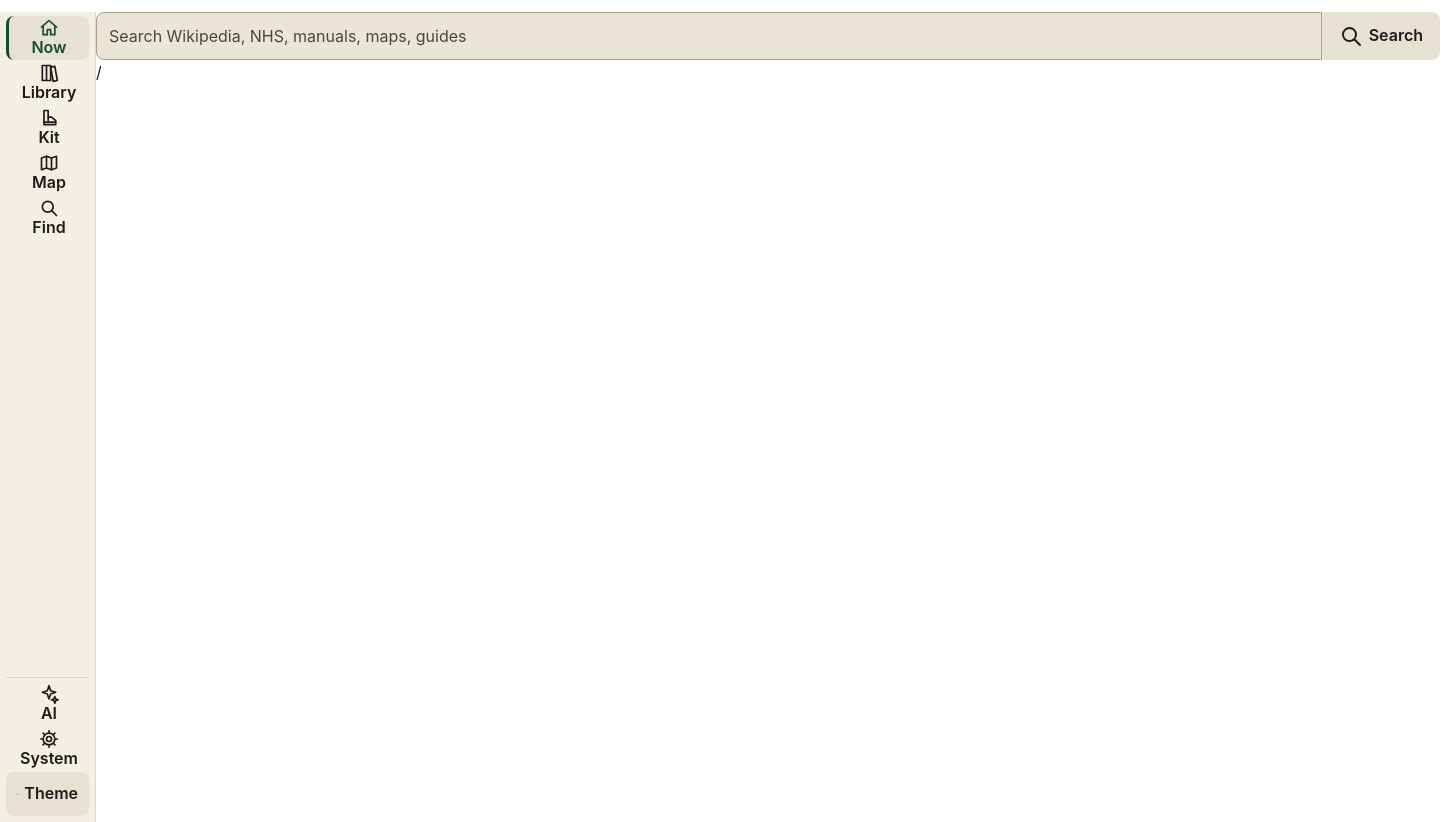
Test: SearchBar › debounces suggestions and lists them
This screenshot has width=1452, height=822.
Type "wat" into the dropdown labelled "Search" at (709, 36), box [96,12,1322,60]
Wait 250 ms
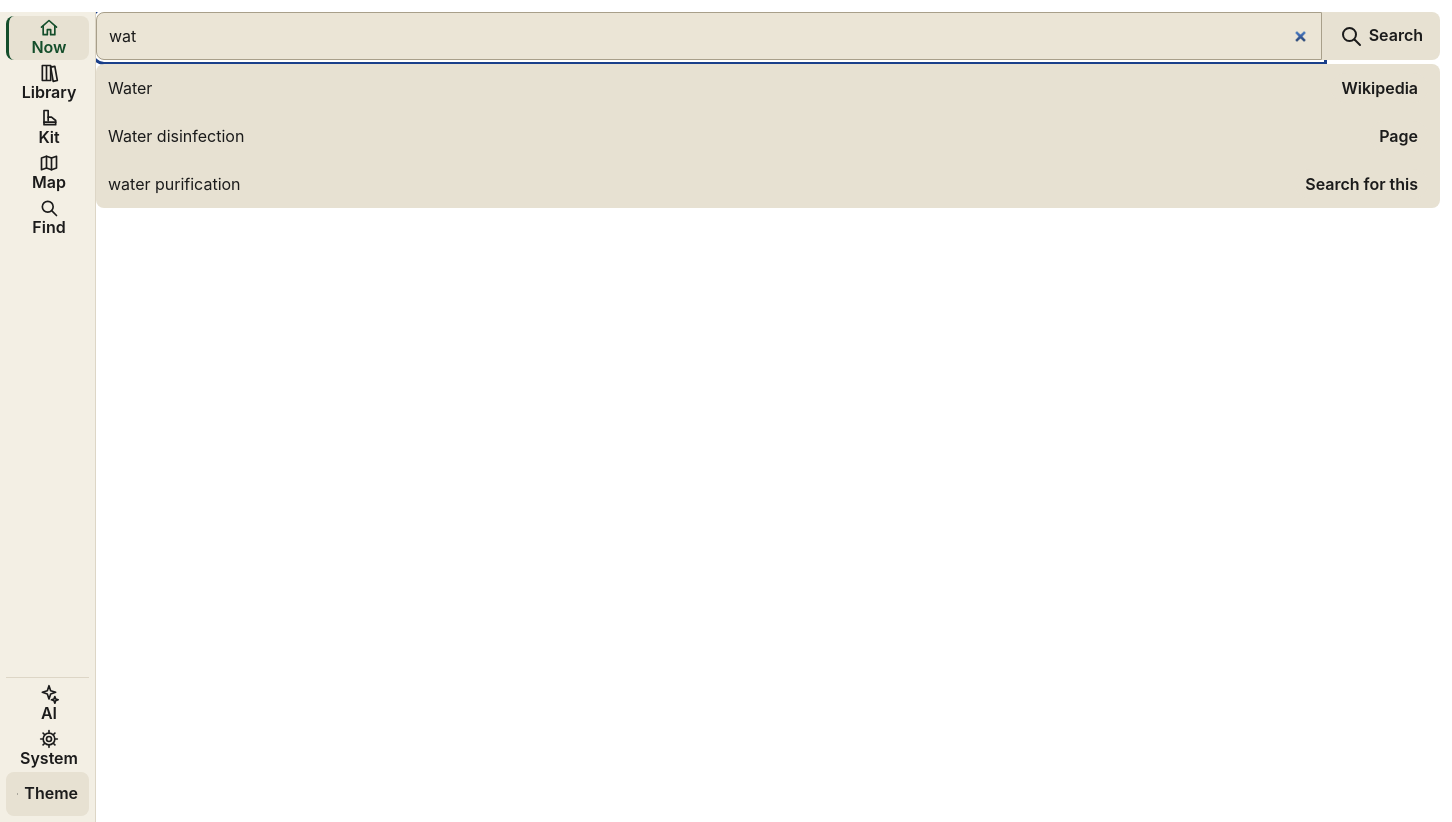
Now the number of options is 3, box [96,64,1440,112]; [96,112,1440,160]; [96,160,1440,208]
